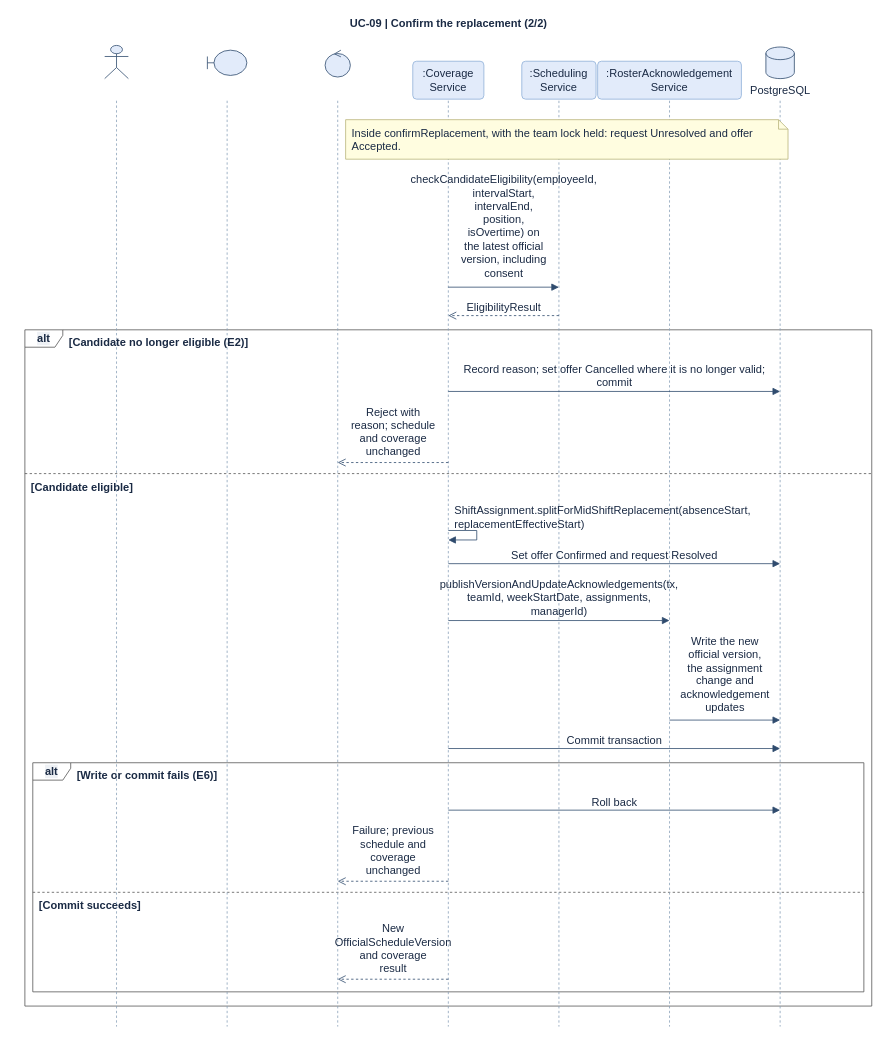
This 896x1041 diagram has some shape labels left out. The shapes that lost their labels are listed below. From the top down, each one's box as (x1, y1, x2, y2) in pixels, then its label:
(104, 45, 128, 79): Manager
(207, 49, 247, 75): Absence and Shift Coverage S-07
(324, 49, 350, 77): Express API
